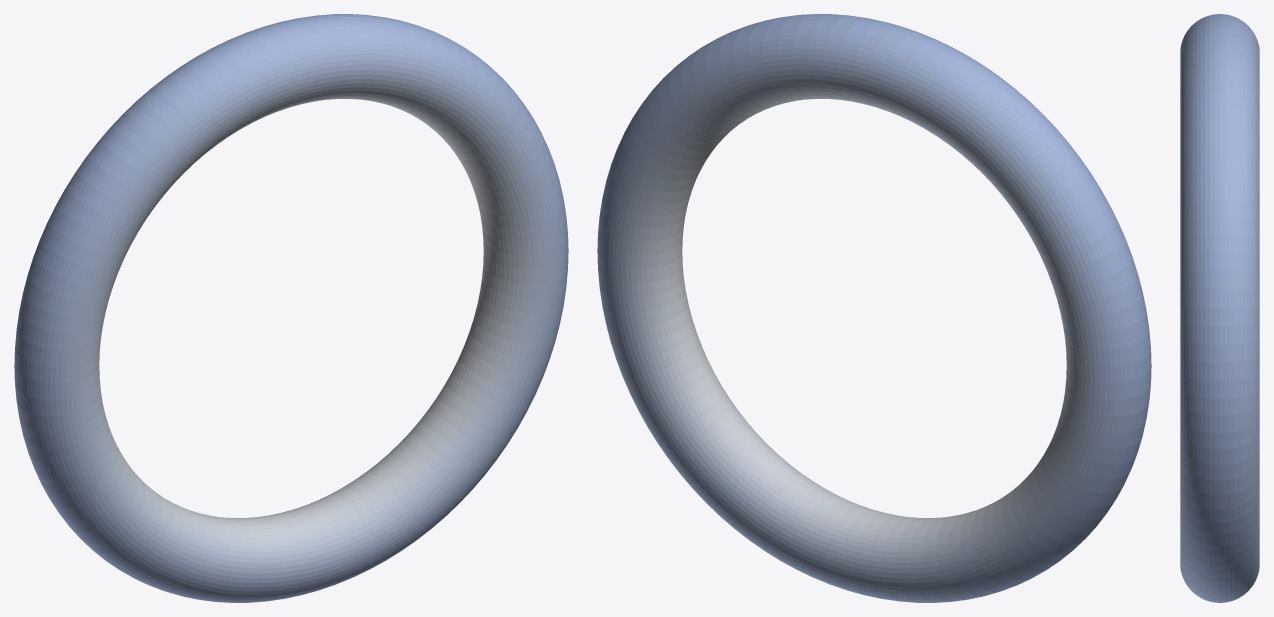
The picture shows the model from 3 angles, left to right: view 1: azimuth 30°, elevation 25°; view 2: azimuth 150°, elevation 25°; view 3: azimuth 270°, elevation 25°; orthographic projection. The views are drawn at different scales.
Visible parts, largest first — view 1: world; view 2: world; view 3: world.
Boxes of the visible parts, x1,y1,x2,y2 form: world: (14,14,568,602); world: (597,14,1151,602); world: (1180,14,1259,602).
Bounding box in the file's own units: 28.53 × 28.53 × 3.86.
